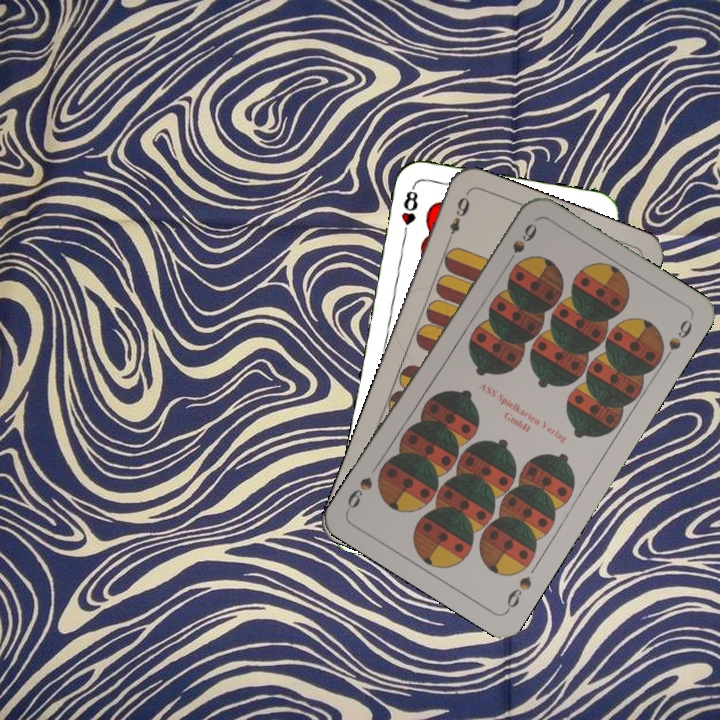E9: (443, 190, 473, 247)
H8: (397, 182, 421, 241)
S9: (501, 219, 540, 271), (502, 572, 534, 614)
